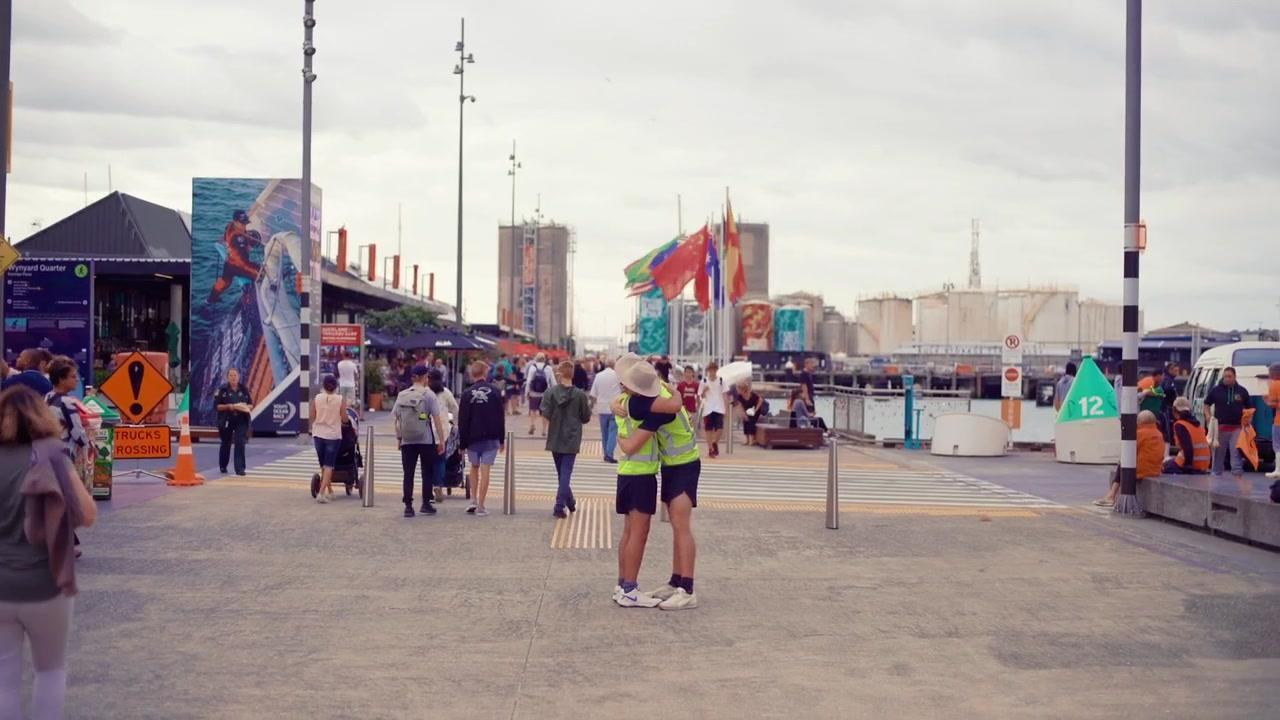vest: (613, 392, 661, 477), (653, 385, 703, 464)
